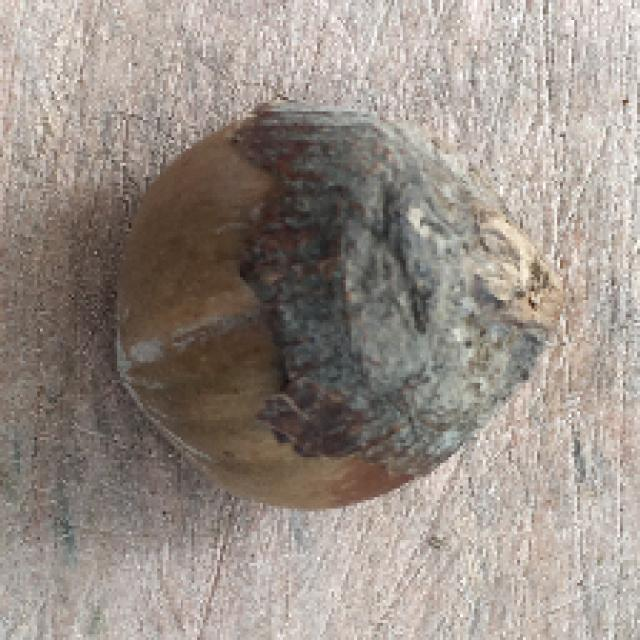damagedHazelnut: (110, 98, 566, 519)
